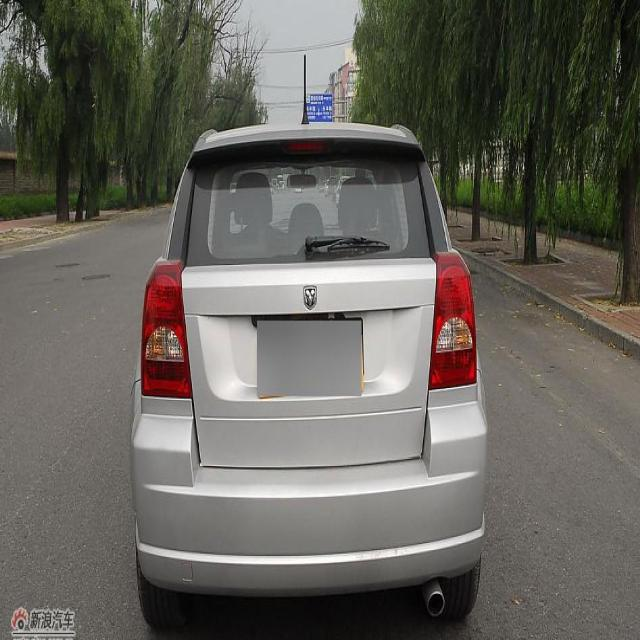back_glass: (177, 138, 439, 274)
back_left_side_light: (140, 256, 193, 404)
back_right_side_light: (426, 247, 478, 395)
rear_bumper: (128, 396, 488, 600)
